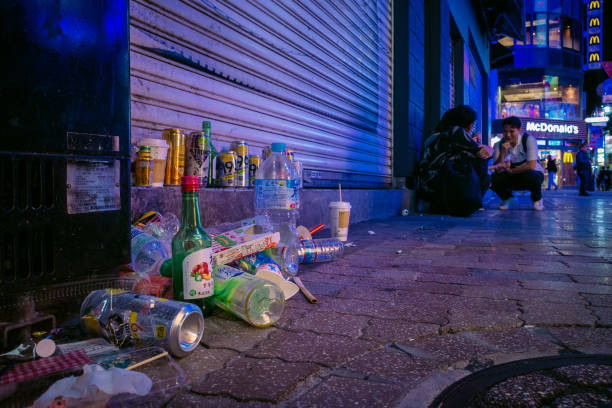General waste: (0, 286, 159, 408)
glass: (162, 175, 219, 318)
metal: (62, 278, 211, 355), (160, 112, 261, 192)
paper: (195, 224, 291, 261), (125, 128, 172, 192)
plastic: (252, 136, 306, 276), (277, 232, 361, 264), (324, 182, 362, 240)
